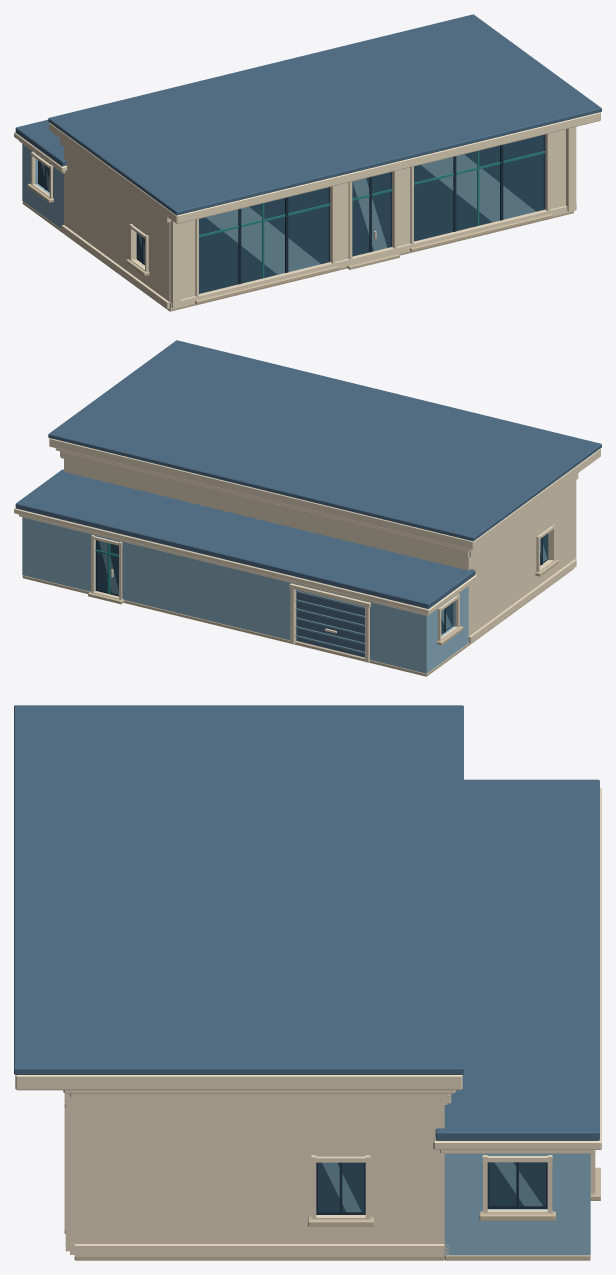
File: car_showroom.glb
The picture shows the model from 3 angles, top to bottom: view 1: azimuth 30°, elevation 25°; view 2: azimuth 150°, elevation 25°; view 3: azimuth 270°, elevation 25°; orthographic projection. The views are drawn at different scales.
Visible parts, largest first — view 1: CarShowroom_StaticMesh; view 2: CarShowroom_StaticMesh; view 3: CarShowroom_StaticMesh.
Part boxes in pixels (box(x1,y1,x2,y2)): CarShowroom_StaticMesh: box(14, 14, 601, 311); CarShowroom_StaticMesh: box(14, 340, 601, 676); CarShowroom_StaticMesh: box(14, 705, 601, 1260).
Bounding box in the file's own units: 20 × 5.18 × 13.67.
